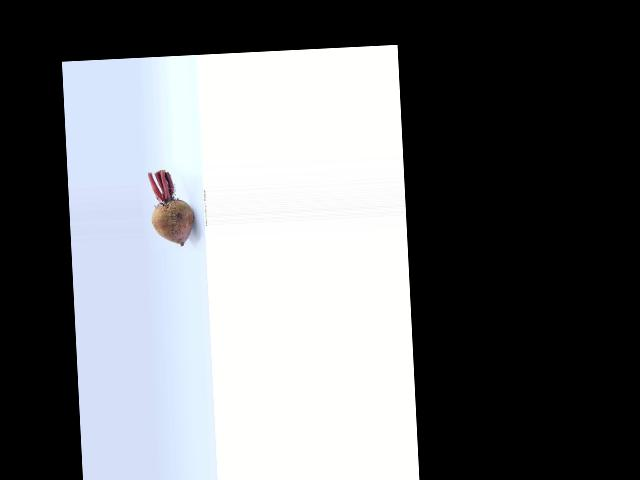beet: (148, 169, 195, 246)
